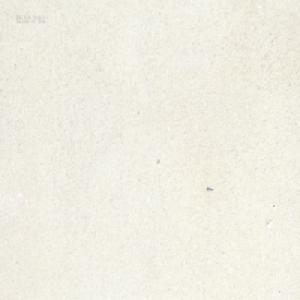Nail: (206, 185, 213, 191)
